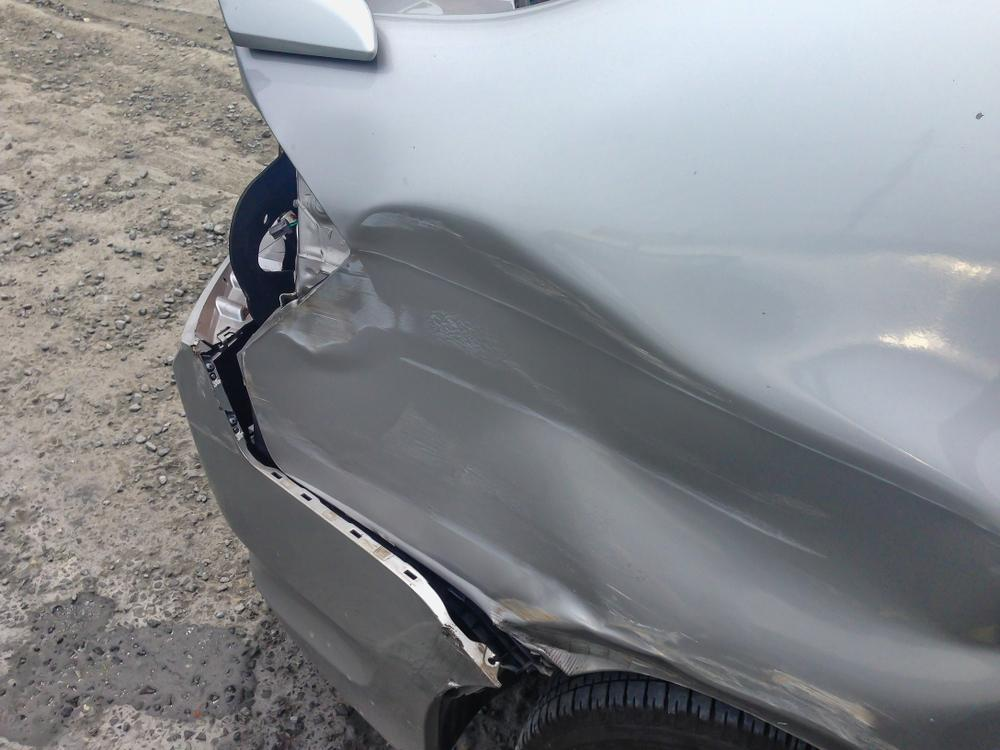dent: (255, 203, 1000, 708)
scratch: (581, 604, 906, 750)
